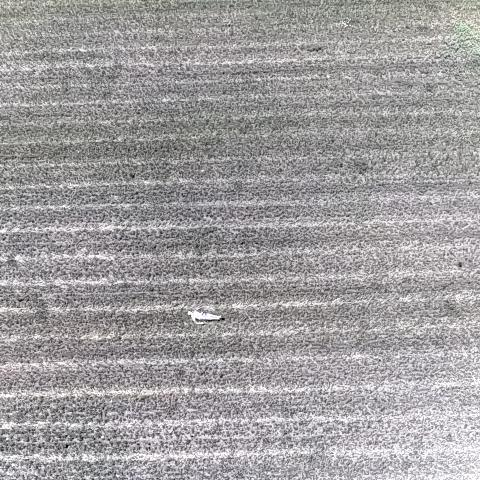person: (186, 308, 225, 327)
